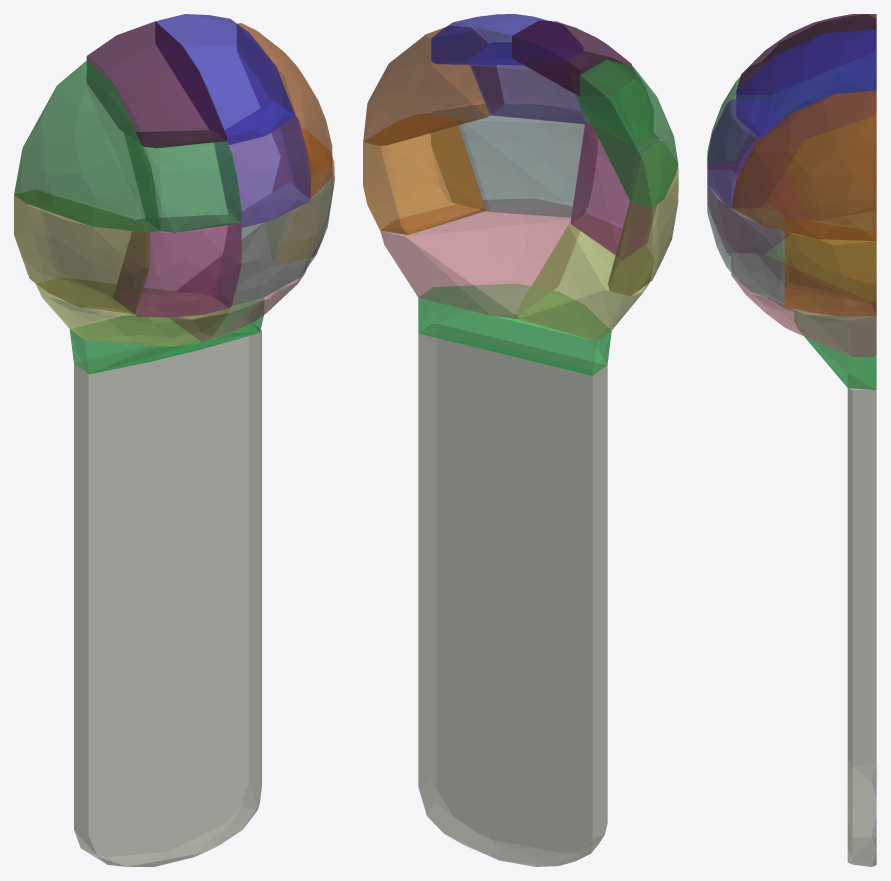
The model's file is grey_spoon_vhacd.obj.
The picture shows the model from 3 angles, left to right: view 1: azimuth 30°, elevation 25°; view 2: azimuth 150°, elevation 25°; view 3: azimuth 270°, elevation 25°; orthographic projection. The views are drawn at different scales.
Visible parts, largest first — view 1: Shape_IndexedFaceSet, Shape_IndexedFaceSet.003, Shape_IndexedFaceSet.006, Shape_IndexedFaceSet.009, Shape_IndexedFaceSet.013, Shape_IndexedFaceSet.007, Shape_IndexedFaceSet.008, Shape_IndexedFaceSet.010, Shape_IndexedFaceSet.012, Shape_IndexedFaceSet.002, Shape_IndexedFaceSet.005, Shape_IndexedFaceSet.001 (+2 smaller); view 2: Shape_IndexedFaceSet, Shape_IndexedFaceSet.004, Shape_IndexedFaceSet.010, Shape_IndexedFaceSet.001, Shape_IndexedFaceSet.011, Shape_IndexedFaceSet.005, Shape_IndexedFaceSet.002, Shape_IndexedFaceSet.003, Shape_IndexedFaceSet.007, Shape_IndexedFaceSet.013, Shape_IndexedFaceSet.006, Shape_IndexedFaceSet.012 (+2 smaller); view 3: Shape_IndexedFaceSet.005, Shape_IndexedFaceSet, Shape_IndexedFaceSet.013, Shape_IndexedFaceSet.004, Shape_IndexedFaceSet.011, Shape_IndexedFaceSet.012, Shape_IndexedFaceSet.006, Shape_IndexedFaceSet.010, Shape_IndexedFaceSet.009, Shape_IndexedFaceSet.002, Shape_IndexedFaceSet.003, Shape_IndexedFaceSet.007 (+2 smaller).
Boxes of the visible parts, bbox=[...] form: Shape_IndexedFaceSet: bbox=[74, 323, 261, 866]; Shape_IndexedFaceSet.003: bbox=[14, 60, 160, 232]; Shape_IndexedFaceSet.006: bbox=[14, 190, 149, 314]; Shape_IndexedFaceSet.009: bbox=[86, 21, 226, 148]; Shape_IndexedFaceSet.013: bbox=[155, 14, 295, 144]; Shape_IndexedFaceSet.007: bbox=[113, 215, 241, 317]; Shape_IndexedFaceSet.008: bbox=[125, 130, 241, 232]; Shape_IndexedFaceSet.010: bbox=[217, 169, 333, 305]; Shape_IndexedFaceSet.012: bbox=[215, 101, 310, 227]; Shape_IndexedFaceSet.002: bbox=[36, 278, 229, 345]; Shape_IndexedFaceSet.005: bbox=[237, 23, 332, 198]; Shape_IndexedFaceSet.001: bbox=[69, 298, 263, 374]; Shape_IndexedFaceSet: bbox=[418, 324, 607, 866]; Shape_IndexedFaceSet.004: bbox=[380, 198, 584, 318]; Shape_IndexedFaceSet.010: bbox=[431, 104, 597, 217]; Shape_IndexedFaceSet.001: bbox=[418, 284, 611, 375]; Shape_IndexedFaceSet.011: bbox=[363, 113, 485, 234]; Shape_IndexedFaceSet.005: bbox=[363, 26, 503, 145]; Shape_IndexedFaceSet.002: bbox=[514, 214, 653, 341]; Shape_IndexedFaceSet.003: bbox=[580, 59, 678, 207]; Shape_IndexedFaceSet.007: bbox=[571, 121, 658, 259]; Shape_IndexedFaceSet.013: bbox=[431, 14, 582, 65]; Shape_IndexedFaceSet.006: bbox=[608, 141, 678, 296]; Shape_IndexedFaceSet.012: bbox=[469, 43, 587, 124]; Shape_IndexedFaceSet.005: bbox=[731, 90, 876, 241]; Shape_IndexedFaceSet: bbox=[847, 355, 876, 866]; Shape_IndexedFaceSet.013: bbox=[736, 29, 876, 138]; Shape_IndexedFaceSet.004: bbox=[731, 253, 876, 356]; Shape_IndexedFaceSet.011: bbox=[784, 219, 876, 316]; Shape_IndexedFaceSet.012: bbox=[707, 99, 803, 208]; Shape_IndexedFaceSet.006: bbox=[786, 113, 875, 219]; Shape_IndexedFaceSet.010: bbox=[707, 170, 784, 303]; Shape_IndexedFaceSet.009: bbox=[736, 14, 876, 94]; Shape_IndexedFaceSet.002: bbox=[765, 211, 875, 309]; Shape_IndexedFaceSet.003: bbox=[762, 15, 875, 118]; Shape_IndexedFaceSet.007: bbox=[707, 137, 808, 255].
Size of the model in its own units: 0.045 by 0.1231 by 0.0232.
